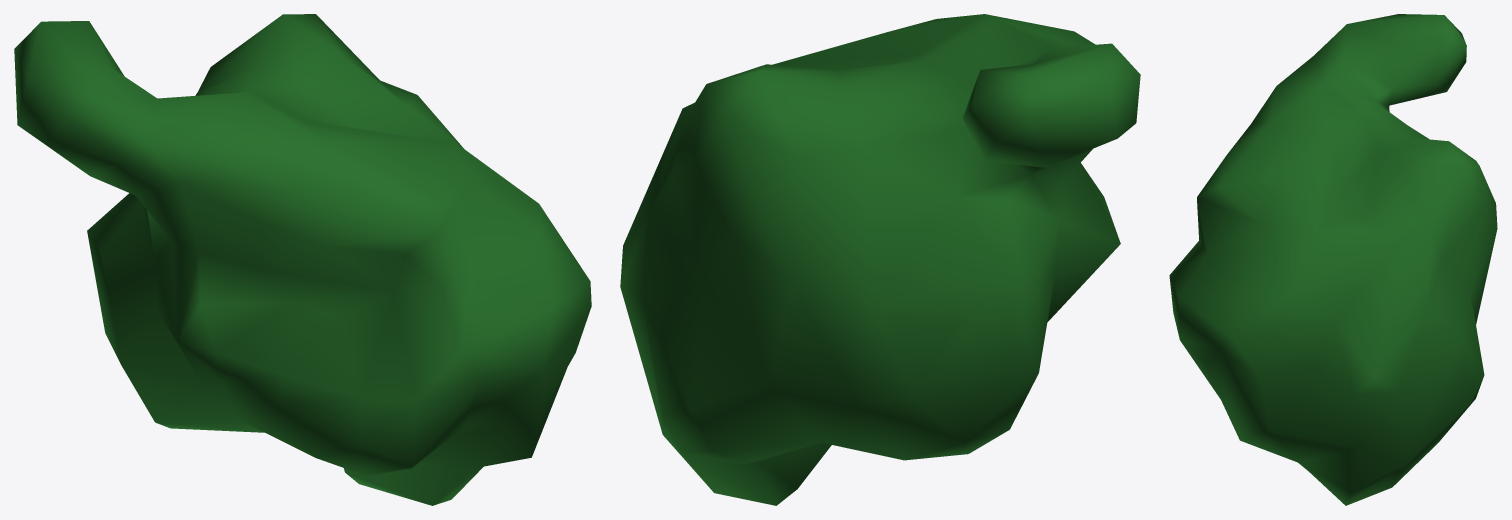
The model's file is Mgenitalium_nusB_1q8c_0_1_0.dae.
3 renders of one model, left to right at view 1: azimuth 30°, elevation 25°; view 2: azimuth 150°, elevation 25°; view 3: azimuth 270°, elevation 25°, orthographic. The views are drawn at different scales.
Visible parts, largest first — view 1: CoarseMS_1q8c; view 2: CoarseMS_1q8c; view 3: CoarseMS_1q8c.
Boxes of the visible parts, x1,y1,x2,y2 form: CoarseMS_1q8c: [14, 14, 591, 505]; CoarseMS_1q8c: [620, 14, 1140, 505]; CoarseMS_1q8c: [1169, 14, 1497, 505].
Bounding box in the file's own units: 46.06 × 46.59 × 37.41.
